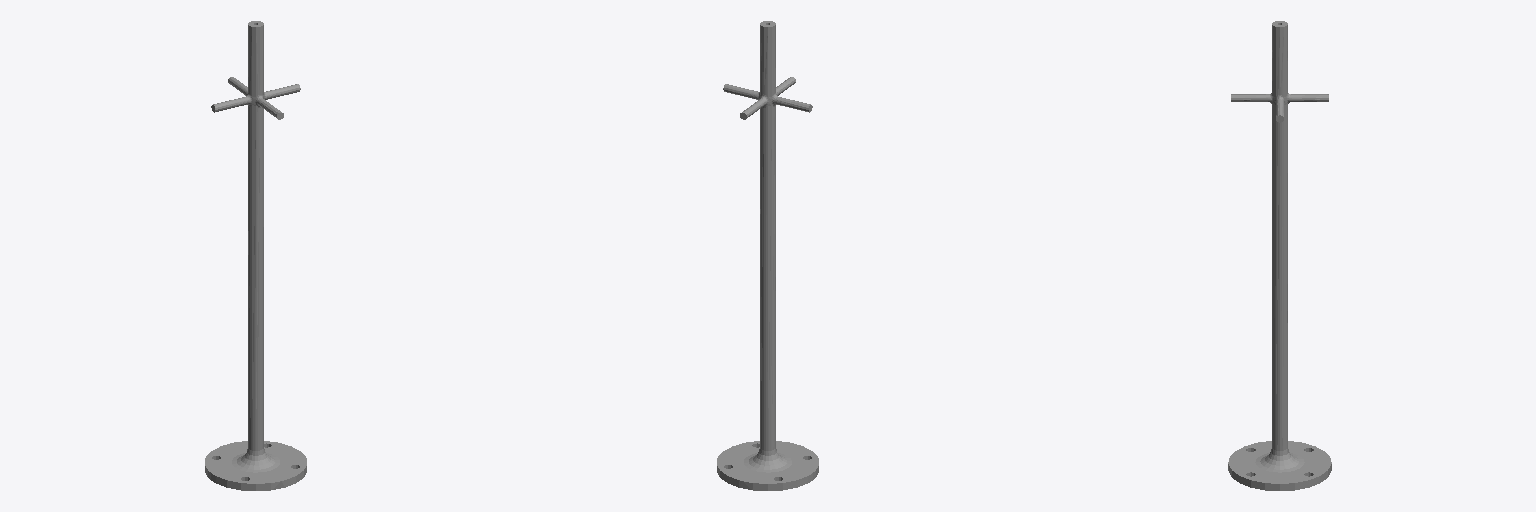
robot.urdf — tool300:
<?xml version="1.0" encoding="utf-8"?>
<!-- This URDF was automatically created by SolidWorks to URDF Exporter! Originally created by Stephen Brawner (brawner@gmail.com) 
     Commit Version: 1.6.0-4-g7f85cfe  Build Version: 1.6.7995.38578
     For more information, please see http://wiki.ros.org/sw_urdf_exporter -->
<robot
  name="tool300">
  <link
    name="tool300_base_link">
    <inertial>
      <origin
        xyz="5.55081669102832E-08 6.71052645449942E-08 0.0990520481974044"
        rpy="0 0 0" />
      <mass
        value="0.0411382616642661" />
      <inertia
        ixx="0.000431714811656251"
        ixy="6.9397790605106E-12"
        ixz="-2.16430244217904E-10"
        iyy="0.000431714827118983"
        iyz="-3.06544108134404E-10"
        izz="8.42436201440394E-06" />
    </inertial>
    <visual>
      <origin
        xyz="0 0 0"
        rpy="0 0 0" />
      <geometry>
        <mesh
          filename="package://tool300/meshes/tool300_base_link.STL" />
      </geometry>
      <material
        name="">
        <color
          rgba="0.627450980392157 0.627450980392157 0.627450980392157 1" />
      </material>
    </visual>
    <collision>
      <origin
        xyz="0 0 0"
        rpy="0 0 0" />
      <geometry>
        <mesh
          filename="package://tool300/meshes/tool300_base_link.STL" />
      </geometry>
    </collision>
  </link>
  <link
    name="tool300_tcp_link">
    <inertial>
      <origin
        xyz="5.55081669102782E-08 6.71052645449942E-08 -0.200947951802596"
        rpy="0 0 0" />
      <mass
        value="0.0411382616642661" />
      <inertia
        ixx="0.000431714811656251"
        ixy="6.9397790605106E-12"
        ixz="-2.16430244217923E-10"
        iyy="0.000431714827118983"
        iyz="-3.06544108134334E-10"
        izz="8.42436201440394E-06" />
    </inertial>
    <visual>
      <origin
        xyz="0 0 0"
        rpy="0 0 0" />
      <geometry>
        <mesh
          filename="package://tool300/meshes/tool300_tcp_link.STL" />
      </geometry>
      <material
        name="">
        <color
          rgba="1 1 1 1" />
      </material>
    </visual>
    <collision>
      <origin
        xyz="0 0 0"
        rpy="0 0 0" />
      <geometry>
        <mesh
          filename="package://tool300/meshes/tool300_tcp_link.STL" />
      </geometry>
    </collision>
  </link>
  <joint
    name="tool300"
    type="fixed">
    <origin
      xyz="0 0 0.3"
      rpy="0 0 0" />
    <parent
      link="tool300_base_link" />
    <child
      link="tool300_tcp_link" />
    <axis
      xyz="0 0 0" />
  </joint>
</robot>

--- What the picture shows (computed from the rendered views, not written in the file) ---
The picture shows the robot from 3 angles, left to right: view 1: azimuth 30°, elevation 25°; view 2: azimuth 150°, elevation 25°; view 3: azimuth 270°, elevation 25°; orthographic projection.
Model tool300 with 2 links and 1 joints (1 fixed), rooted at tool300_base_link, posed every joint at zero.
Links seen in each view (by area): view 1: tool300_base_link; view 2: tool300_base_link; view 3: tool300_base_link.
Boxes of the visible links, x1,y1,x2,y2 form: tool300_base_link: (205,21,306,490); tool300_base_link: (717,21,818,490); tool300_base_link: (1228,21,1331,490).
Bounding box of the posed robot: 0.063 × 0.063 × 0.3 m (x, y, z).
Meshes: 2 distinct files referenced, 1 mesh visuals loaded (1 binary STL); not drawn: 1 (reference not matched to a file when rendering).
